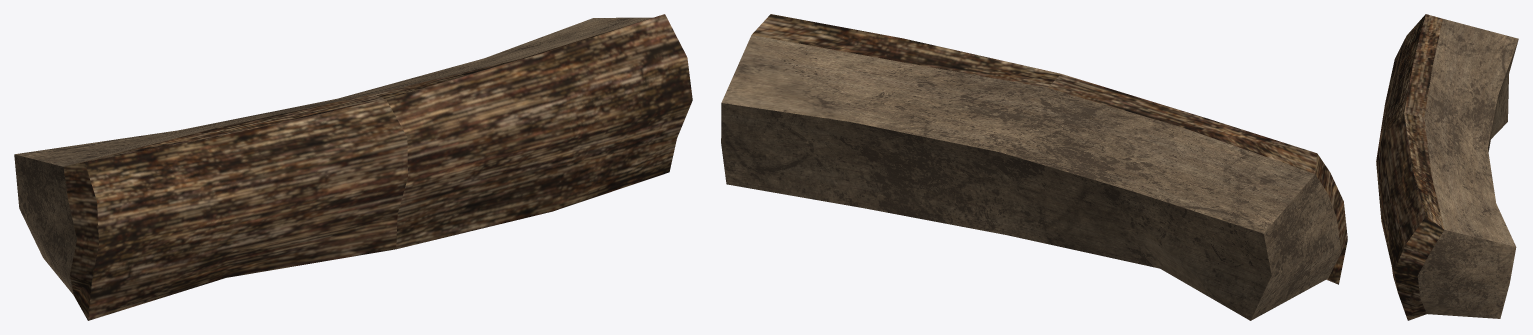
File: Pine_01.fbx
3 renders of one model, left to right at view 1: azimuth 30°, elevation 25°; view 2: azimuth 150°, elevation 25°; view 3: azimuth 270°, elevation 25°, orthographic. The views are drawn at different scales.
Visible parts, largest first — view 1: Cube.015; view 2: Cube.015; view 3: Cube.015.
Part boxes in pixels (bbox=[...]): Cube.015: bbox=[14, 14, 692, 320]; Cube.015: bbox=[721, 14, 1347, 320]; Cube.015: bbox=[1376, 14, 1518, 320].
Size of the model in its own units: 28.97 by 6.83 by 7.89.
